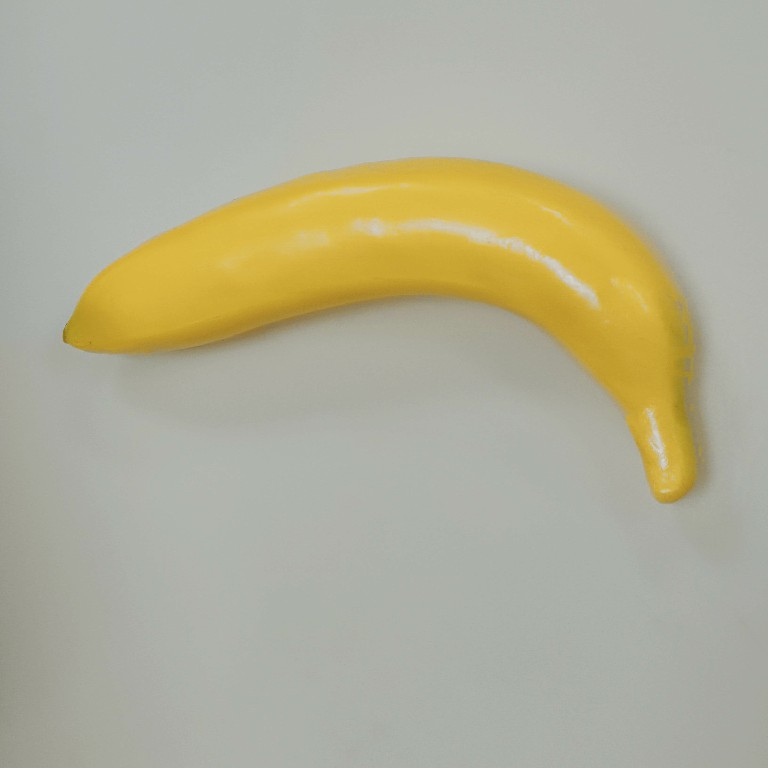fruit_banana: (55, 152, 710, 512)
